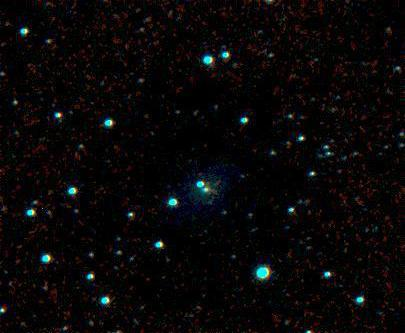star: (193, 168, 223, 198)
